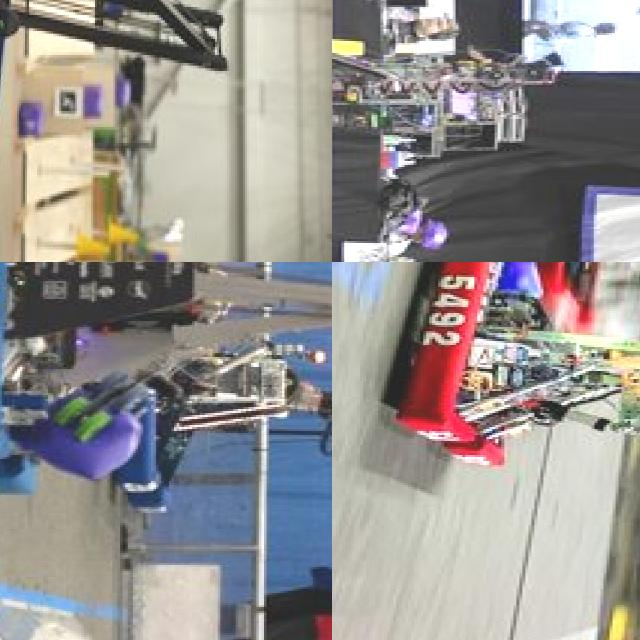FRC-Robots: (0, 262, 332, 508), (369, 262, 640, 515), (0, 0, 248, 194), (332, 0, 591, 180)
